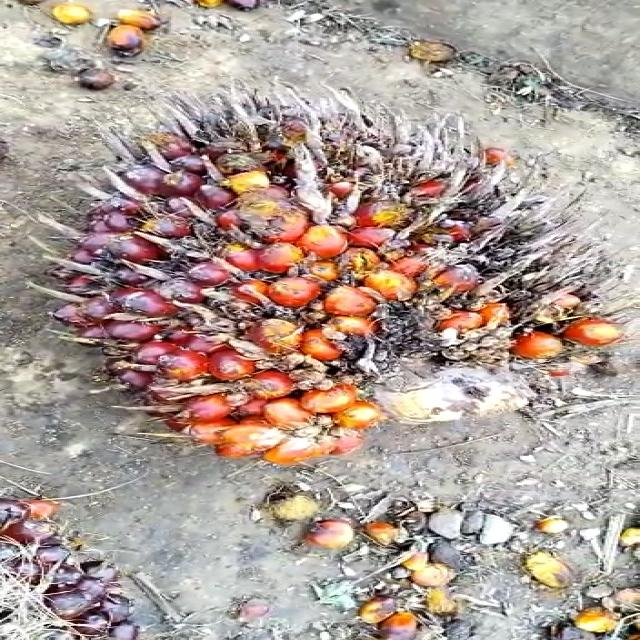palm oil: (63, 82, 640, 464)
